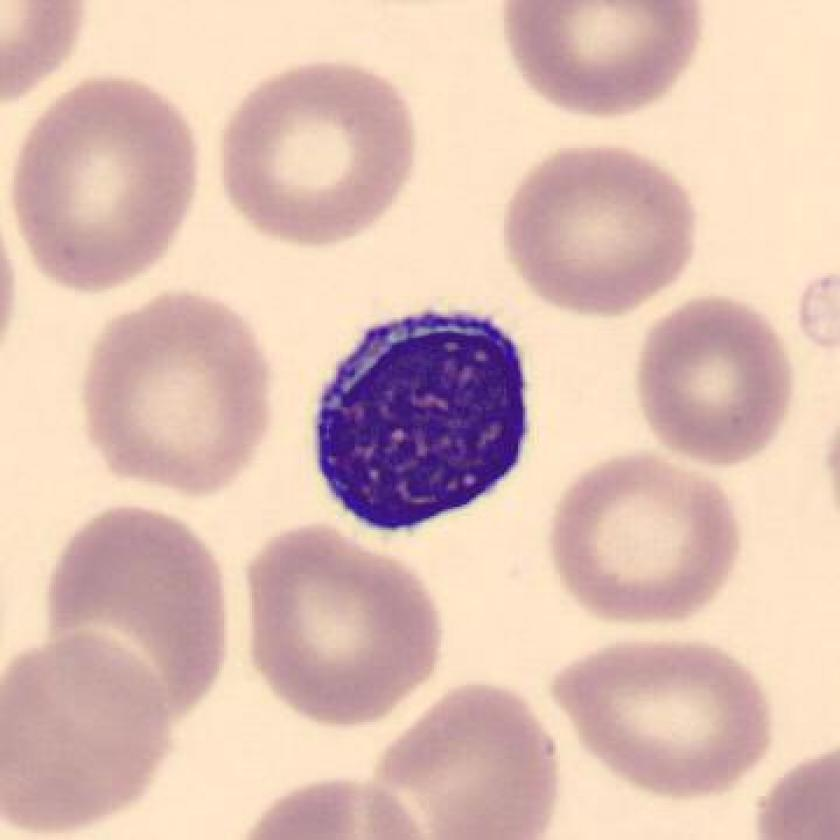lymphocyte: (295, 298, 545, 564)
